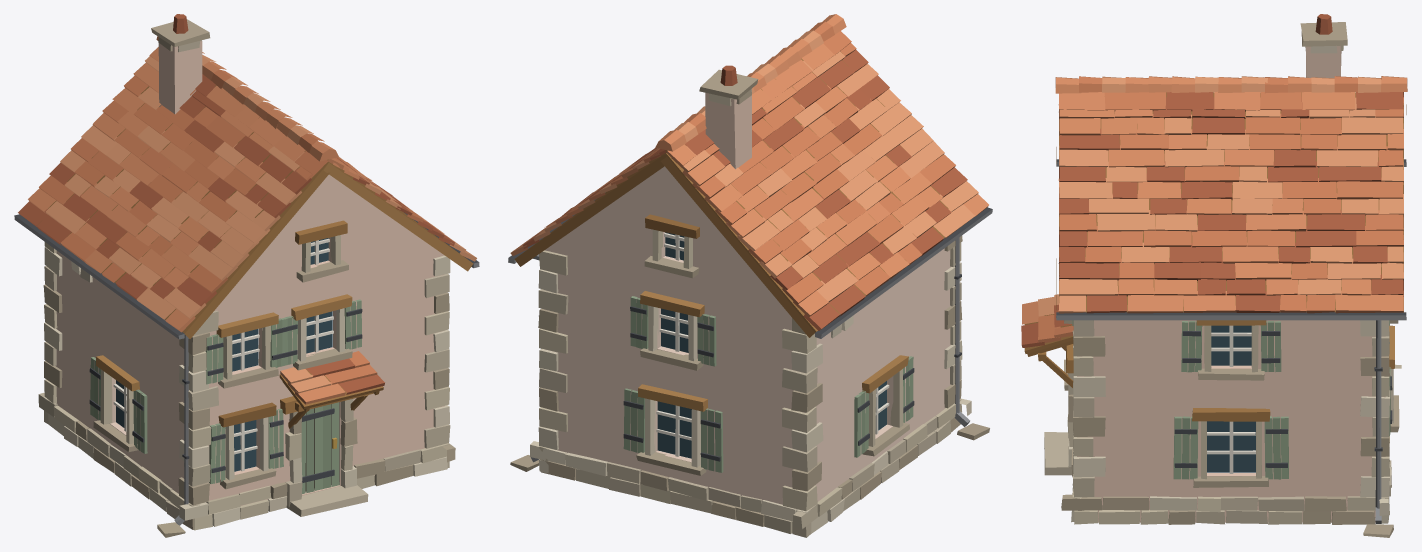
Rendered from honorine.glb.
The picture shows the model from 3 angles, left to right: view 1: azimuth 30°, elevation 25°; view 2: azimuth 150°, elevation 25°; view 3: azimuth 270°, elevation 25°; orthographic projection. The views are drawn at different scales.
Visible parts, largest first — view 1: honorine; view 2: honorine; view 3: honorine.
Part boxes in pixels (x1=…): honorine: x1=14, y1=14, x2=479, y2=537; honorine: x1=508, y1=14, x2=992, y2=537; honorine: x1=1021, y1=14, x2=1407, y2=537.
Size of the model in its own units: 7.46 by 9.21 by 7.5.
